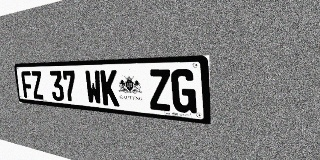3: (49, 71, 64, 101)
7: (61, 70, 78, 103)
F: (21, 71, 34, 99)
G: (171, 69, 197, 114)
K: (100, 70, 119, 107)
W: (84, 70, 102, 105)
Z: (148, 69, 172, 111), (30, 71, 44, 99)
